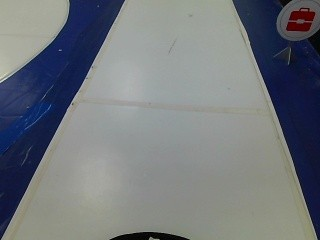company: (273, 0, 318, 40)
